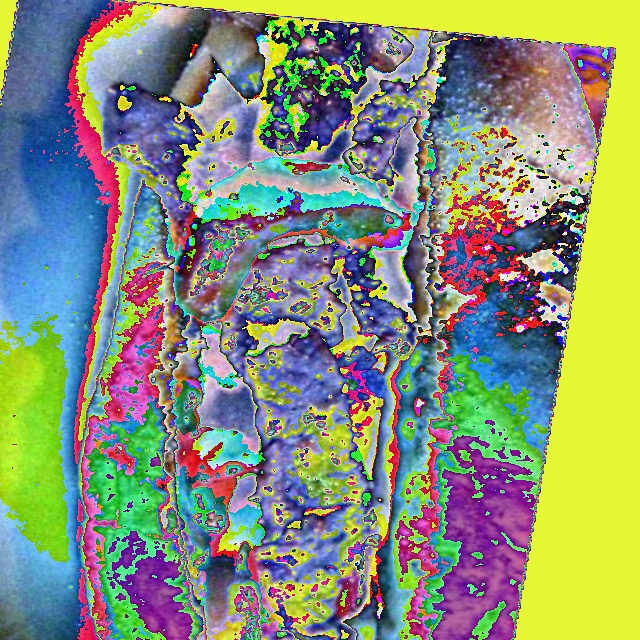background: (75, 10, 598, 639)
